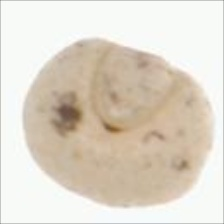L5: (89, 42, 181, 135), (37, 162, 139, 214)
L6: (19, 35, 216, 211)
